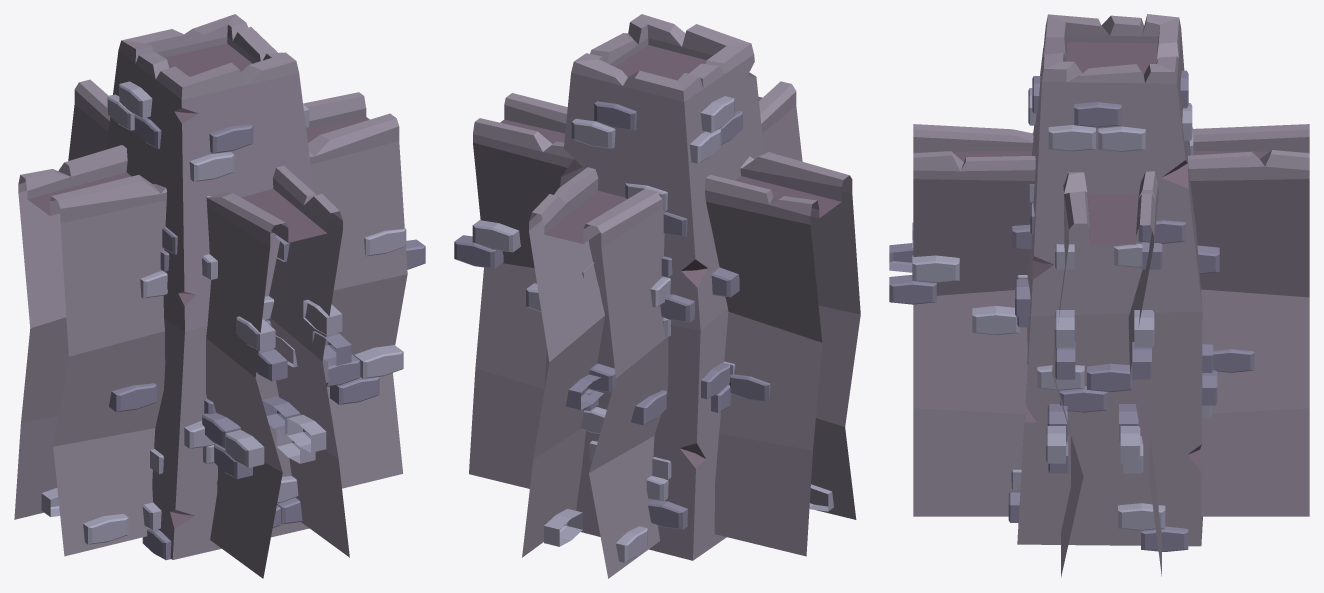
Rendered from WallBuilding.fbx.
The picture shows the model from 3 angles, left to right: view 1: azimuth 30°, elevation 25°; view 2: azimuth 150°, elevation 25°; view 3: azimuth 270°, elevation 25°; orthographic projection.
Visible parts, largest first — view 1: Wall2, Wall Joint, Wall1, Wall3, Wall4; view 2: Wall Joint, Wall2, Wall4, Wall3, Wall1; view 3: Wall Joint, Wall1, Wall4, Wall3.
Boxes of the visible parts, bbox=[...] form: Wall2: bbox=[14, 145, 169, 556]; Wall Joint: bbox=[106, 14, 328, 560]; Wall1: bbox=[202, 165, 351, 578]; Wall3: bbox=[303, 92, 425, 488]; Wall4: bbox=[68, 79, 110, 160]; Wall Joint: bbox=[545, 14, 764, 560]; Wall2: bbox=[704, 152, 860, 556]; Wall4: bbox=[522, 167, 672, 578]; Wall3: bbox=[454, 93, 573, 488]; Wall1: bbox=[758, 81, 802, 161]; Wall Joint: bbox=[1008, 14, 1217, 551]; Wall1: bbox=[889, 124, 1035, 516]; Wall4: bbox=[1188, 124, 1309, 516]; Wall3: bbox=[1046, 171, 1162, 577].
Size of the model in its own units: 106 by 131 by 106.
